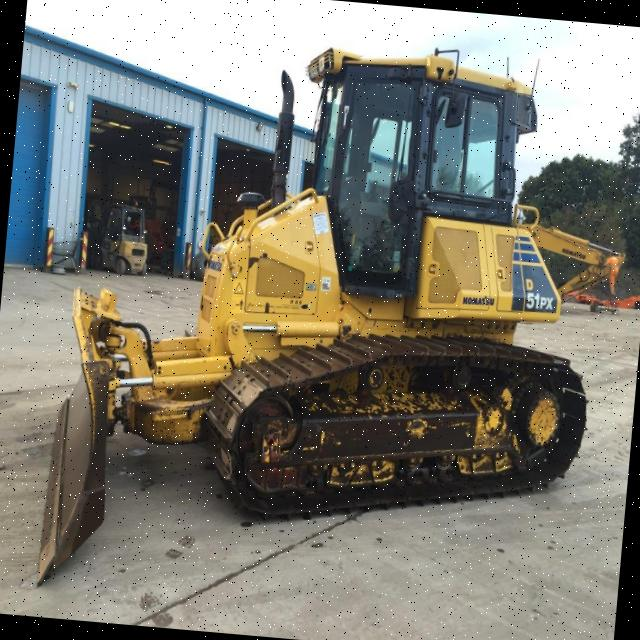Bulldozer: (13, 0, 617, 629)
